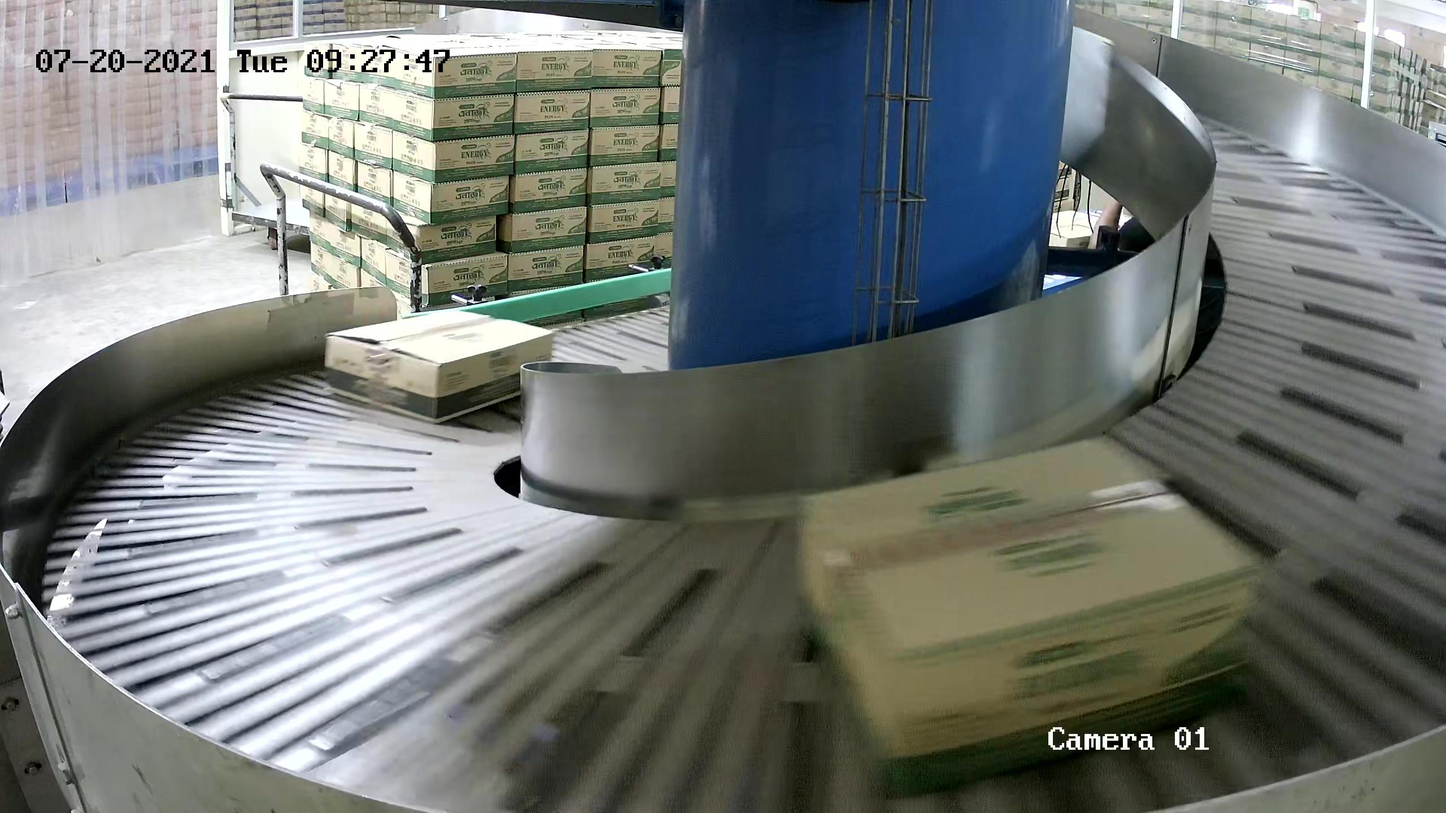Box: (791, 431, 1265, 803), (324, 307, 555, 425)
